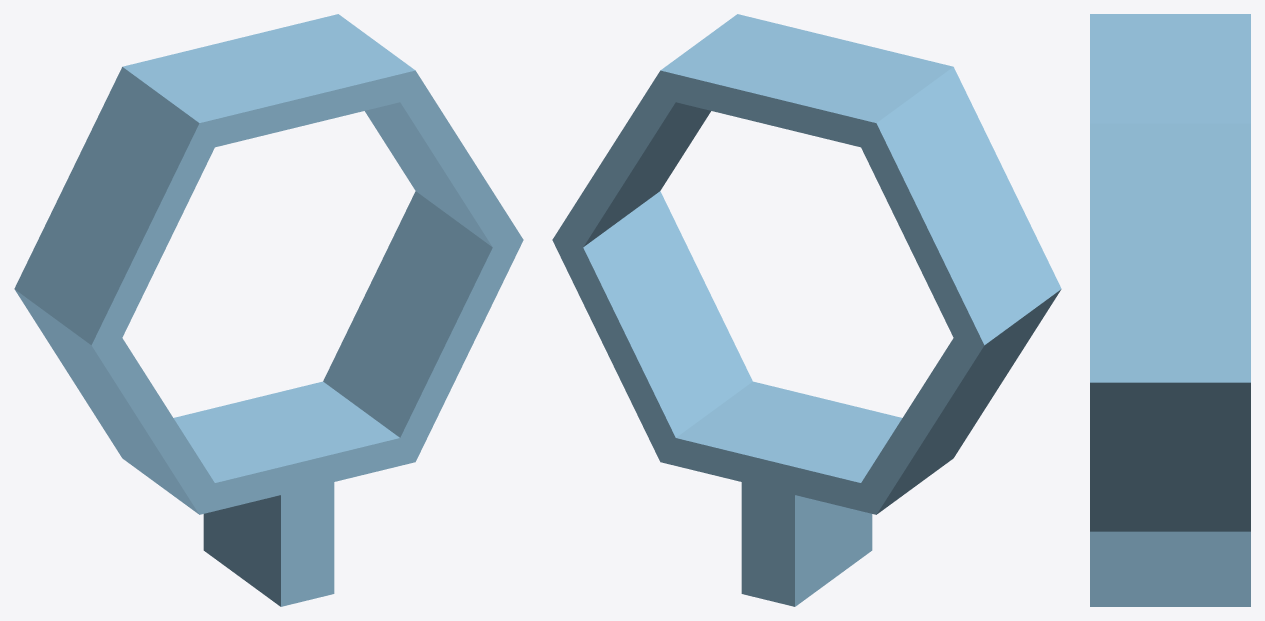
Rendered from lollipop.obj.
The picture shows the model from 3 angles, left to right: view 1: azimuth 30°, elevation 25°; view 2: azimuth 150°, elevation 25°; view 3: azimuth 270°, elevation 25°; orthographic projection. The views are drawn at different scales.
Visible parts, largest first — view 1: mesh10, mesh8, mesh12, mesh7, mesh13, mesh9, mesh1, mesh17; view 2: mesh11, mesh8, mesh12, mesh7, mesh13, mesh9, mesh1, mesh17; view 3: mesh6, mesh5, mesh7, mesh3.
Part boxes in pixels (left/top/right/bottom): mesh10: left=91, top=70, right=523, bottom=606; mesh8: left=14, top=67, right=199, bottom=345; mesh12: left=323, top=191, right=492, bottom=437; mesh7: left=123, top=14, right=415, bottom=122; mesh13: left=173, top=381, right=399, bottom=482; mesh9: left=14, top=289, right=198, bottom=513; mesh1: left=203, top=495, right=280, bottom=606; mesh17: left=365, top=102, right=492, bottom=246; mesh11: left=552, top=70, right=984, bottom=606; mesh8: left=876, top=67, right=1061, bottom=345; mesh12: left=583, top=191, right=752, bottom=437; mesh7: left=660, top=14, right=952, bottom=122; mesh13: left=676, top=381, right=902, bottom=482; mesh9: left=877, top=289, right=1061, bottom=513; mesh1: left=795, top=495, right=872, bottom=606; mesh17: left=583, top=102, right=710, bottom=246; mesh6: left=1090, top=123, right=1250, bottom=382; mesh5: left=1090, top=382, right=1250, bottom=531; mesh7: left=1090, top=14, right=1250, bottom=123; mesh3: left=1090, top=531, right=1250, bottom=606.
Size of the model in its own units: 0.1617 by 0.18 by 0.05.
